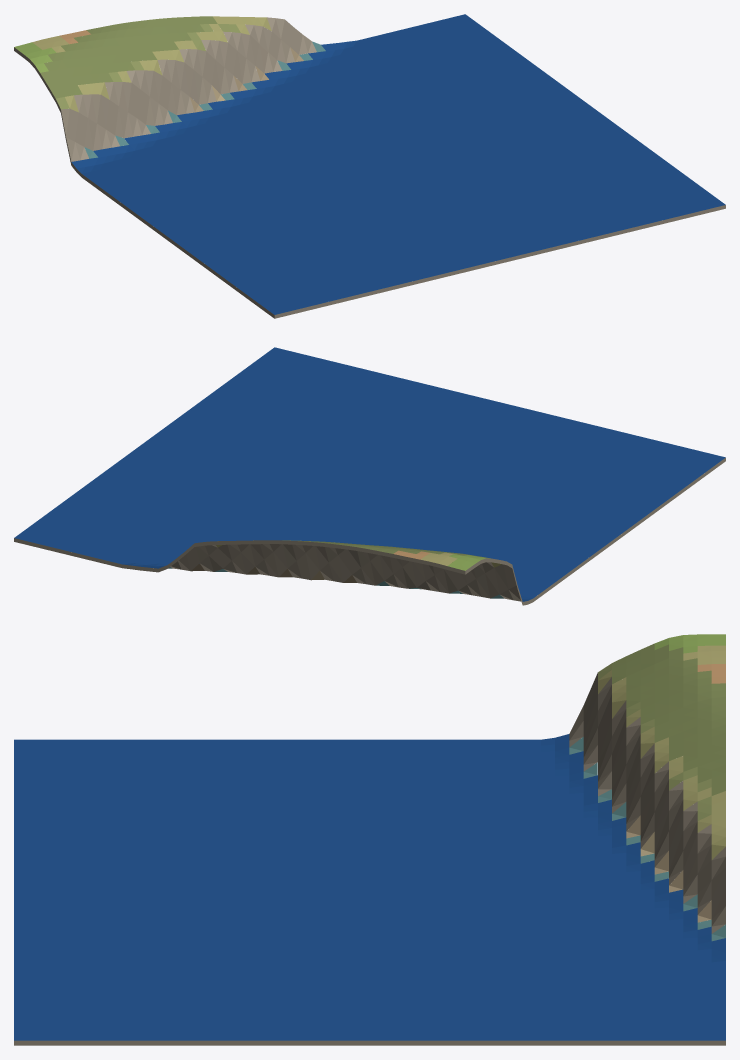
File: parca_+11_-8-uzak.glb
The picture shows the model from 3 angles, top to bottom: view 1: azimuth 30°, elevation 25°; view 2: azimuth 150°, elevation 25°; view 3: azimuth 270°, elevation 25°; orthographic projection. The views are drawn at different scales.
Parts seen in each view (by area): view 1: parca_+11_-8_arazi_uzak; view 2: parca_+11_-8_arazi_uzak; view 3: parca_+11_-8_arazi_uzak.
Boxes of the visible parts, x1,y1,x2,y2 form: parca_+11_-8_arazi_uzak: [14, 14, 725, 318]; parca_+11_-8_arazi_uzak: [14, 347, 725, 605]; parca_+11_-8_arazi_uzak: [14, 634, 725, 1045].
Size of the model in its own units: 1000 by 173 by 1000.
